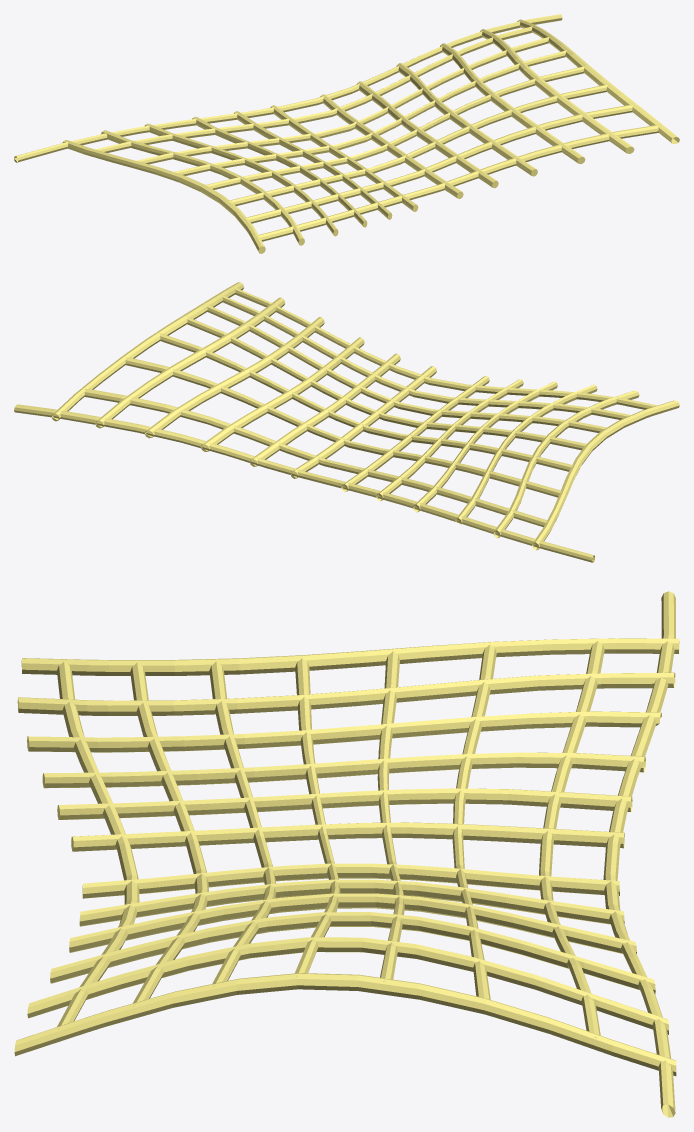
Rendered from Fishnet1.fbx.
3 views of the same model, one above another, from view 1: azimuth 30°, elevation 25°; view 2: azimuth 150°, elevation 25°; view 3: azimuth 270°, elevation 25° (orthographic). The views are drawn at different scales.
Visible parts, largest first — view 1: Fishnet.002; view 2: Fishnet.002; view 3: Fishnet.002.
Boxes of the visible parts, left/top/right/bottom form: Fishnet.002: left=14, top=14, right=679, bottom=253; Fishnet.002: left=14, top=282, right=679, bottom=562; Fishnet.002: left=14, top=591, right=679, bottom=1117.
Bounding box in the file's own units: 381 × 33.74 × 201.
